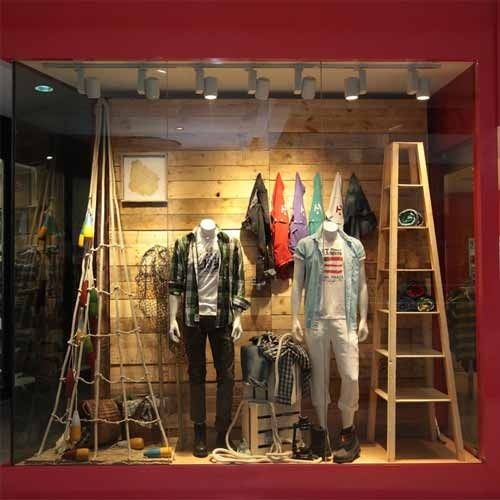person-like: (285, 213, 371, 464), (163, 214, 247, 460)
